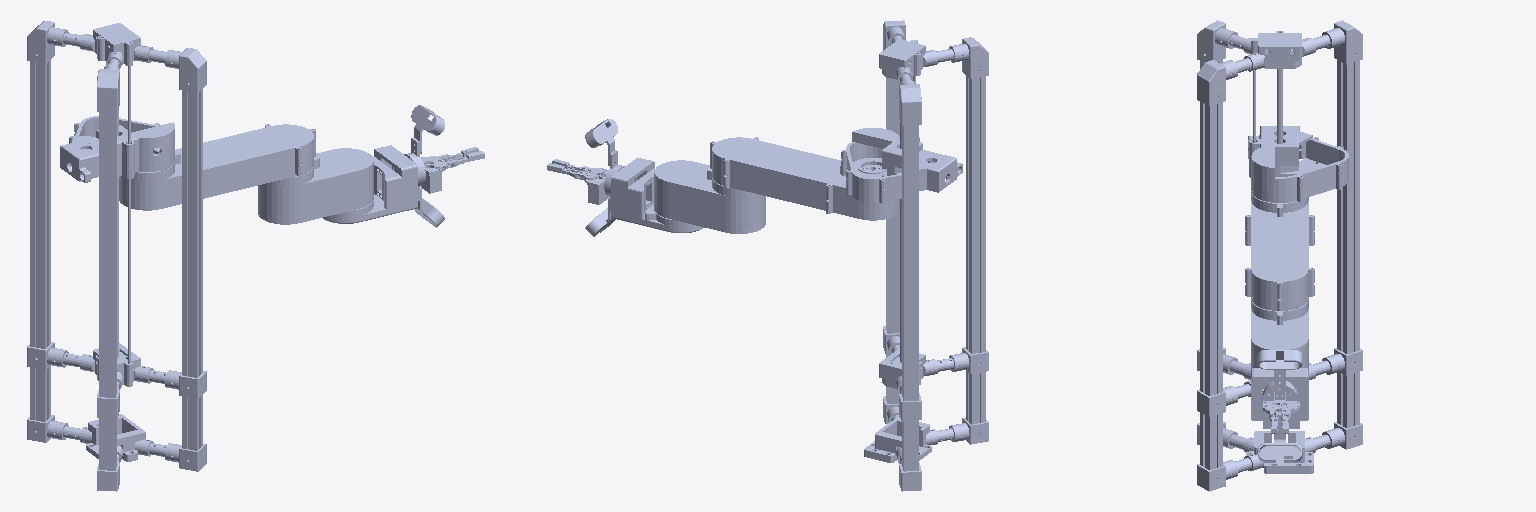
robot.urdf — berrybot:
<?xml version="1.0" encoding="utf-8"?>
<!-- This URDF was automatically created by SolidWorks to URDF Exporter! Originally created by [author] ([email redacted]) 
     Commit Version: 1.6.0-4-g7f85cfe  Build Version: 1.6.7995.38578
     For more information, please see http://wiki.ros.org/sw_urdf_exporter -->
<robot
  name="berrybot">
  <link
    name="base_link">
    <inertial>
      <origin
        xyz="-0.0260796634761501 -0.0365555163799671 0.396735421162825"
        rpy="0 0 0" />
      <mass
        value="2.87702129673757" />
      <inertia
        ixx="0.0857296623482647"
        ixy="4.29743171459672E-05"
        ixz="-8.56295018331263E-06"
        iyy="0.0853945250064593"
        iyz="-2.94665863351021E-06"
        izz="0.00153624654266533" />
    </inertial>
    <visual>
      <origin
        xyz="0 0 0"
        rpy="0 0 0" />
      <geometry>
        <mesh
          filename="package://berrybot_description/meshes/base_link.STL" />
      </geometry>
      <material
        name="">
        <color
          rgba="0.792156862745098 0.819607843137255 0.933333333333333 1" />
      </material>
    </visual>
    <collision>
      <origin
        xyz="0 0 0"
        rpy="0 0 0" />
      <geometry>
        <mesh
          filename="package://berrybot_description/meshes/base_link.STL" />
      </geometry>
    </collision>
  </link>
  <link
    name="link1">
    <inertial>
      <origin
        xyz="0.0120728344115199 0.0142112009609397 -0.0329840674201771"
        rpy="0 0 0" />
      <mass
        value="0.641607816803253" />
      <inertia
        ixx="0.00176349377389527"
        ixy="6.23322864568198E-05"
        ixz="4.24931676487362E-05"
        iyy="0.00226935278556233"
        iyz="0.00022001578901826"
        izz="0.00343231312876168" />
    </inertial>
    <visual>
      <origin
        xyz="0 0 0"
        rpy="0 0 0" />
      <geometry>
        <mesh
          filename="package://berrybot_description/meshes/link1.STL" />
      </geometry>
      <material
        name="">
        <color
          rgba="0.792156862745098 0.819607843137255 0.933333333333333 1" />
      </material>
    </visual>
    <collision>
      <origin
        xyz="0 0 0"
        rpy="0 0 0" />
      <geometry>
        <mesh
          filename="package://berrybot_description/meshes/link1.STL" />
      </geometry>
    </collision>
  </link>
  <joint
    name="joint1"
    type="prismatic">
    <origin
      xyz="-0.0043164 -0.0057205 0.3368"
      rpy="0 0 0" />
    <parent
      link="base_link" />
    <child
      link="link1" />
    <axis
      xyz="0 0 -1" />
    <limit
      lower="-0.600"
      upper="-0.01"
      effort="300"
      velocity="0.02" />
  </joint>
  <link
    name="link2">
    <inertial>
      <origin
        xyz="0.132648108588069 -7.66258727355126E-06 -0.0337313487070523"
        rpy="0 0 0" />
      <mass
        value="1.21790808347326" />
      <inertia
        ixx="0.00154846196743339"
        ixy="-1.54219095761203E-07"
        ixz="-1.90382758622812E-05"
        iyy="0.00425206110802368"
        iyz="6.02386696555079E-08"
        izz="0.00545645010060873" />
    </inertial>
    <visual>
      <origin
        xyz="0 0 0"
        rpy="0 0 0" />
      <geometry>
        <mesh
          filename="package://berrybot_description/meshes/link2.STL" />
      </geometry>
      <material
        name="">
        <color
          rgba="0.792156862745098 0.819607843137255 0.933333333333333 1" />
      </material>
    </visual>
    <collision>
      <origin
        xyz="0 0 0"
        rpy="0 0 0" />
      <geometry>
        <mesh
          filename="package://berrybot_description/meshes/link2.STL" />
      </geometry>
    </collision>
  </link>
  <joint
    name="joint2"
    type="revolute">
    <origin
      xyz="0.0638586161135005 0 -0.07355"
      rpy="0 0 0" />
    <parent
      link="link1" />
    <child
      link="link2" />
    <axis
      xyz="0 0 -1" />
    <limit
      lower="-2.015854"
      upper="0.253071"
      effort="200"
      velocity="3" />
  </joint>
  <link
    name="link3">
    <inertial>
      <origin
        xyz="0.0546872133827593 -2.39582301345131E-07 -0.0388851599914216"
        rpy="0 0 0" />
      <mass
        value="0.783047855038987" />
      <inertia
        ixx="0.0010727699197224"
        ixy="-1.53993150086213E-07"
        ixz="-2.11974954258733E-05"
        iyy="0.00325810821857342"
        iyz="-3.42858217553346E-08"
        izz="0.00389666351584499" />
    </inertial>
    <visual>
      <origin
        xyz="0 0 0"
        rpy="0 0 0" />
      <geometry>
        <mesh
          filename="package://berrybot_description/meshes/link3.STL" />
      </geometry>
      <material
        name="">
        <color
          rgba="0.792156862745098 0.819607843137255 0.933333333333333 1" />
      </material>
    </visual>
    <collision>
      <origin
        xyz="0 0 0"
        rpy="0 0 0" />
      <geometry>
        <mesh
          filename="package://berrybot_description/meshes/link3.STL" />
      </geometry>
    </collision>
  </link>
  <joint
    name="joint3"
    type="revolute">
    <origin
      xyz="0.299 0 -0.079"
      rpy="0 0 0" />
    <parent
      link="link2" />
    <child
      link="link3" />
    <axis
      xyz="0 0 -1" />
    <limit
      lower="-1.879718"
      upper="2.483602"
      effort="200"
      velocity="3" />
  </joint>
  <link
    name="link4">
    <inertial>
      <origin
        xyz="0.0628613382563859 0.000167411794933691 0.00149049884660379"
        rpy="0 0 0" />
      <mass
        value="0.651212854430719" />
      <inertia
        ixx="0.00102423931258213"
        ixy="-6.24775124143484E-07"
        ixz="-0.000157050299577248"
        iyy="0.00105611984337837"
        iyz="3.71821724595456E-08"
        izz="0.00139084360081601" />
    </inertial>
    <visual>
      <origin
        xyz="0 0 0"
        rpy="0 0 0" />
      <geometry>
        <mesh
          filename="package://berrybot_description/meshes/link4.STL" />
      </geometry>
      <material
        name="">
        <color
          rgba="0.792156862745098 0.819607843137255 0.933333333333333 1" />
      </material>
    </visual>
    <collision>
      <origin
        xyz="0 0 0"
        rpy="0 0 0" />
      <geometry>
        <mesh
          filename="package://berrybot_description/meshes/link4.STL" />
      </geometry>
    </collision>
  </link>
  <joint
    name="joint4"
    type="revolute">
    <origin
      xyz="0.1306413838865 0 -0.08945"
      rpy="0 0 0" />
    <parent
      link="link3" />
    <child
      link="link4" />
    <axis
      xyz="0 0 1" />
    <limit
      lower="-1.719148"
      upper="1.771508"
      effort="200"
      velocity="3" />
  </joint>
  <link
    name="link5">
    <inertial>
      <origin
        xyz="0.00045711 -0.0025199 0.02899"
        rpy="0 0 0" />
      <mass
        value="0.17785" />
      <inertia
        ixx="7.2572E-05"
        ixy="-4.8839E-07"
        ixz="-5.9379E-08"
        iyy="8.4772E-05"
        iyz="-2.6021E-07"
        izz="0.00011467" />
    </inertial>
    <visual>
      <origin
        xyz="0 0 0"
        rpy="0 0 0" />
      <geometry>
        <mesh
          filename="package://berrybot_description/meshes/link5.STL" />
      </geometry>
      <material
        name="">
        <color
          rgba="0.79216 0.81961 0.93333 1" />
      </material>
    </visual>
    <collision>
      <origin
        xyz="0 0 0"
        rpy="0 0 0" />
      <geometry>
        <mesh
          filename="package://berrybot_description/meshes/link5.STL" />
      </geometry>
    </collision>
  </link>
  <joint
    name="joint5"
    type="revolute">
    <origin
      xyz="0.1397 0 0.0257499999999998"
      rpy="1.5707963267949 0 1.5707963267949" />
    <parent
      link="link4" />
    <child
      link="link5" />
    <axis
      xyz="0 0 1" />
    <limit
      lower="-1.570796"
      upper="1.570796"
      effort="200"
      velocity="3" />
  </joint>
</robot>

--- Render facts (derived) ---
3 views of the same robot in one strip: view 1: azimuth 30°, elevation 25°; view 2: azimuth 150°, elevation 25°; view 3: azimuth 270°, elevation 25° (orthographic).
Model berrybot with 6 links and 5 joints (4 revolute, 1 prismatic), rooted at base_link, posed all joints at 0 but 1 set to mid-range because 0 is outside their limits (joint1 = -0.305).
Visible links, largest first — view 1: base_link, link2, link3, link1, link4, link5; view 2: base_link, link2, link3, link1, link4, link5; view 3: base_link, link2, link1, link5, link3, link4.
Link boxes in pixels (x1=…): base_link: x1=27, y1=21, x2=206, y2=491; link2: x1=119, y1=124, x2=315, y2=210; link3: x1=258, y1=148, x2=373, y2=224; link1: x1=60, y1=116, x2=174, y2=182; link4: x1=323, y1=145, x2=417, y2=223; link5: x1=404, y1=105, x2=484, y2=227; base_link: x1=864, y1=20, x2=988, y2=491; link2: x1=710, y1=137, x2=899, y2=220; link3: x1=654, y1=160, x2=765, y2=233; link1: x1=841, y1=128, x2=962, y2=203; link4: x1=611, y1=158, x2=703, y2=232; link5: x1=547, y1=119, x2=624, y2=236; base_link: x1=1197, y1=20, x2=1362, y2=491; link2: x1=1245, y1=191, x2=1314, y2=310; link1: x1=1248, y1=126, x2=1348, y2=202; link5: x1=1257, y1=350, x2=1302, y2=462; link3: x1=1251, y1=299, x2=1308, y2=369; link4: x1=1251, y1=368, x2=1308, y2=420.
Bounding box of the posed robot: 0.9029 × 0.3064 × 0.86 m (x, y, z).
6 mesh visuals loaded from 6 distinct referenced files (6 binary STL).